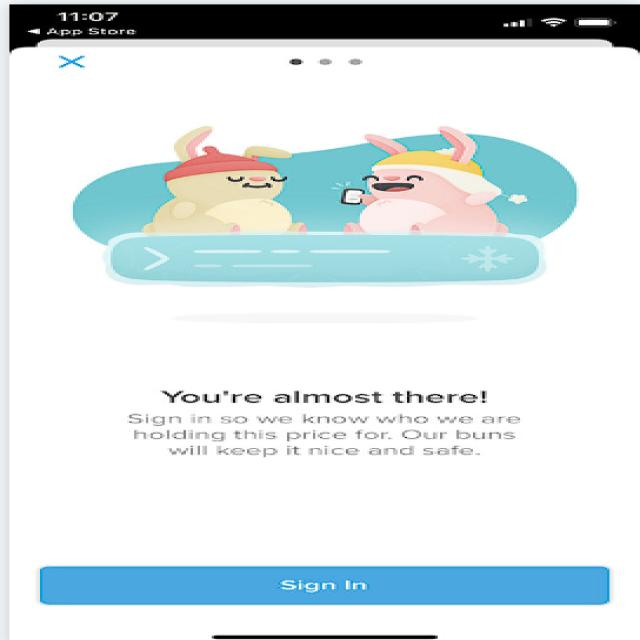button: (27, 560, 619, 612)
icon button: (33, 46, 117, 82)
image: (33, 101, 604, 306)
spacer: (68, 482, 588, 553)
text: (103, 375, 564, 468)
